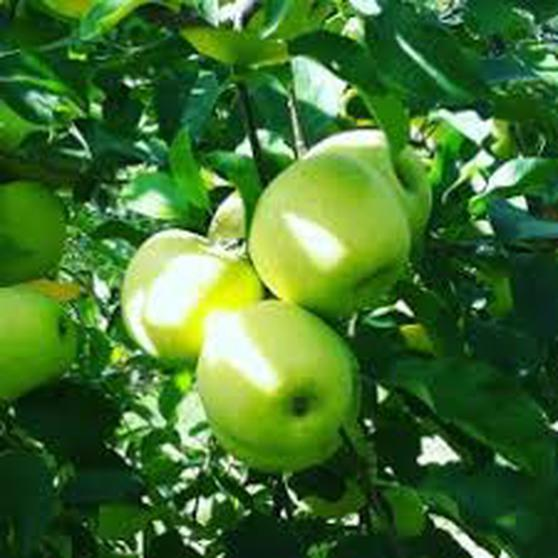apple: (246, 147, 413, 325)
